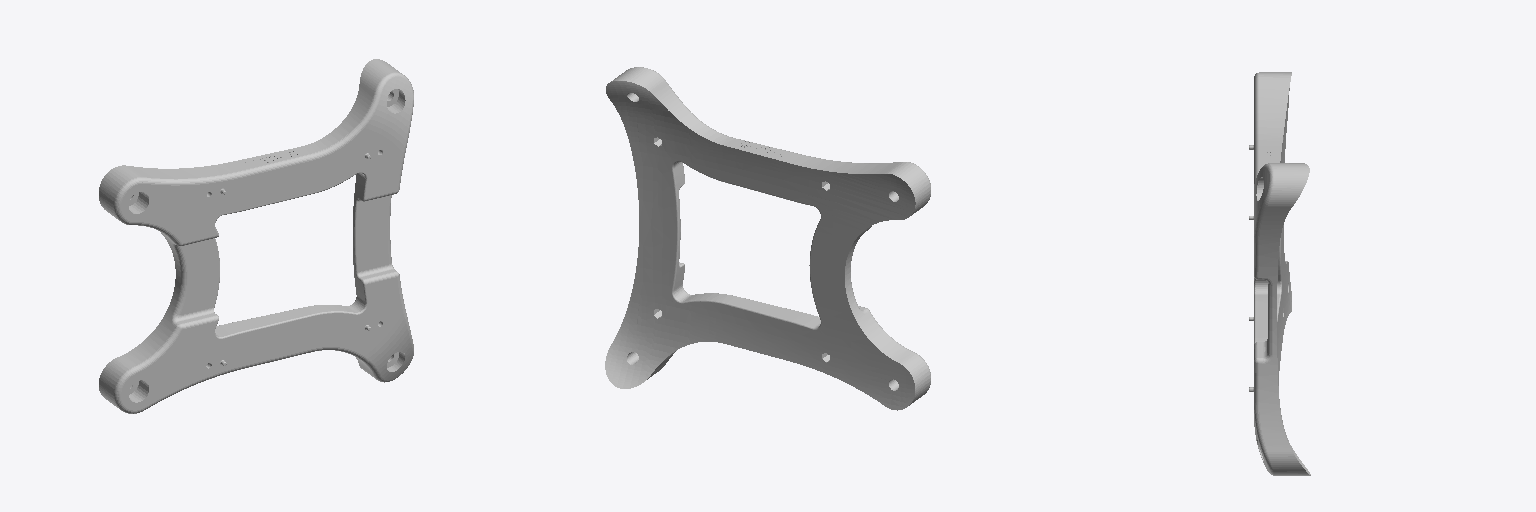
The model's file is g1_interface.obj.
The picture shows the model from 3 angles: view 1: azimuth 30°, elevation 25°; view 2: azimuth 150°, elevation 25°; view 3: azimuth 270°, elevation 25°; orthographic projection.
Parts seen in each view (by area): view 1: Corpo149; view 2: Corpo149; view 3: Corpo149.
Boxes of the visible parts, x1,y1,x2,y2 form: Corpo149: [99, 59, 413, 413]; Corpo149: [605, 67, 930, 410]; Corpo149: [1249, 72, 1310, 475].
Bounding box in the file's own units: 0.2046 × 0.1972 × 0.0362.